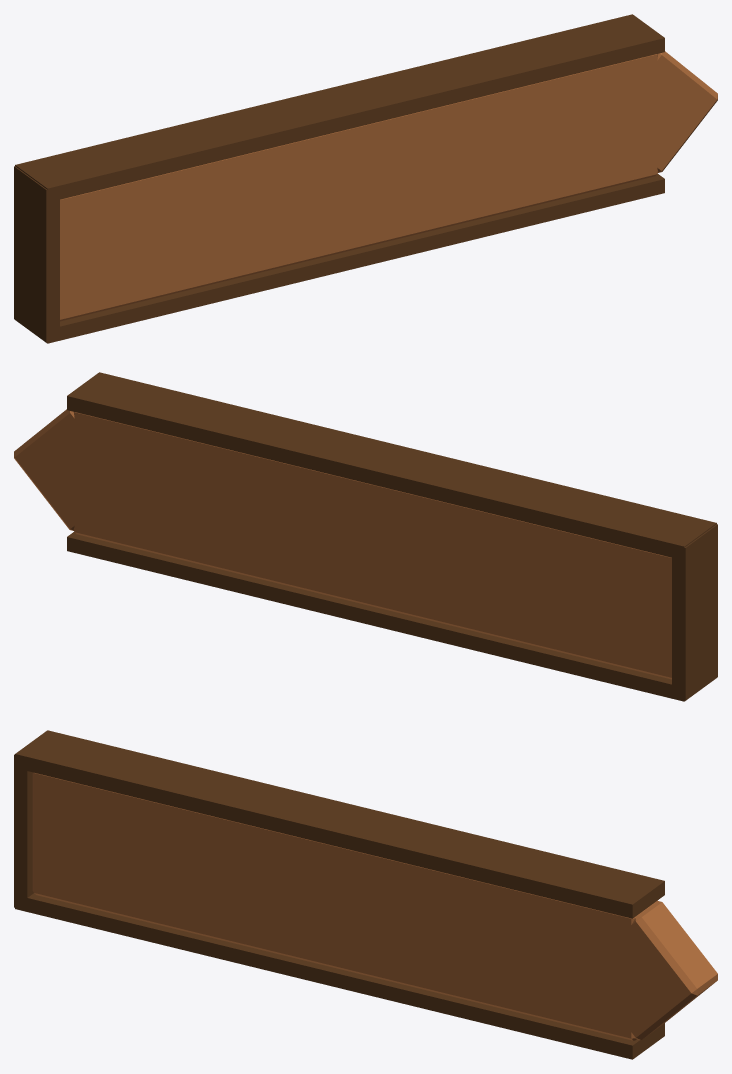
The model's file is SignArrow.fbx.
The picture shows the model from 3 angles, top to bottom: view 1: azimuth 30°, elevation 25°; view 2: azimuth 150°, elevation 25°; view 3: azimuth 330°, elevation 25°; orthographic projection.
Visible parts, largest first — view 1: Board, Frame, Tip; view 2: Board, Frame, Tip; view 3: Board, Frame, Tip.
Part boxes in pixels (x1,y1,x2,y2): Board: (60, 54, 658, 321); Frame: (14, 14, 664, 343); Tip: (657, 51, 717, 172); Board: (73, 412, 671, 679); Frame: (67, 372, 717, 701); Tip: (14, 409, 124, 530); Board: (32, 772, 657, 1040); Frame: (14, 730, 664, 1059); Tip: (581, 901, 717, 1039).
Size of the model in its own units: 6.03 by 1.32 by 0.5.
